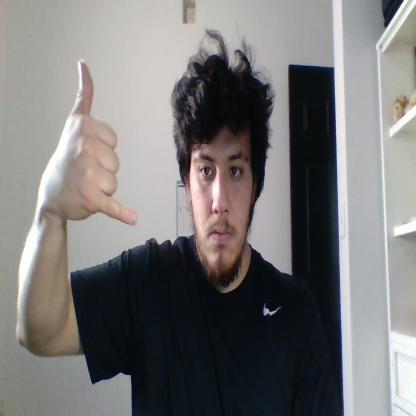Y: (60, 60, 137, 226)
